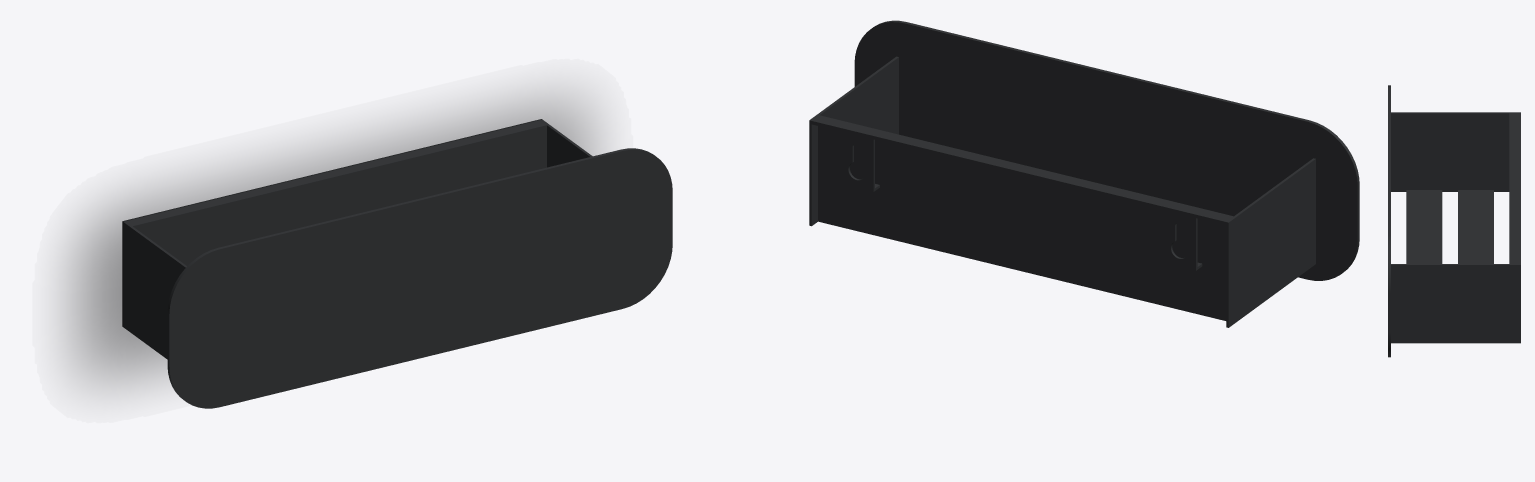
The model's file is radius-mono.2f96a5e4a4.ar.glb.
3 views of the same model, side by side, from view 1: azimuth 30°, elevation 25°; view 2: azimuth 150°, elevation 25°; view 3: azimuth 270°, elevation 25° (orthographic). The views are drawn at different scales.
Parts seen in each view (by area): view 1: NAUO1, object 2; view 2: NAUO1; view 3: NAUO1.
Part boxes in pixels (x1,y1,x2,y2): NAUO1: (122,119,672,408); object 2: (65,96,599,385); NAUO1: (809,20,1359,327); NAUO1: (1388,85,1520,357).
Size of the model in its own units: 0.38 by 0.17 by 0.092.
Materials: 2 (1 with a texture image).
